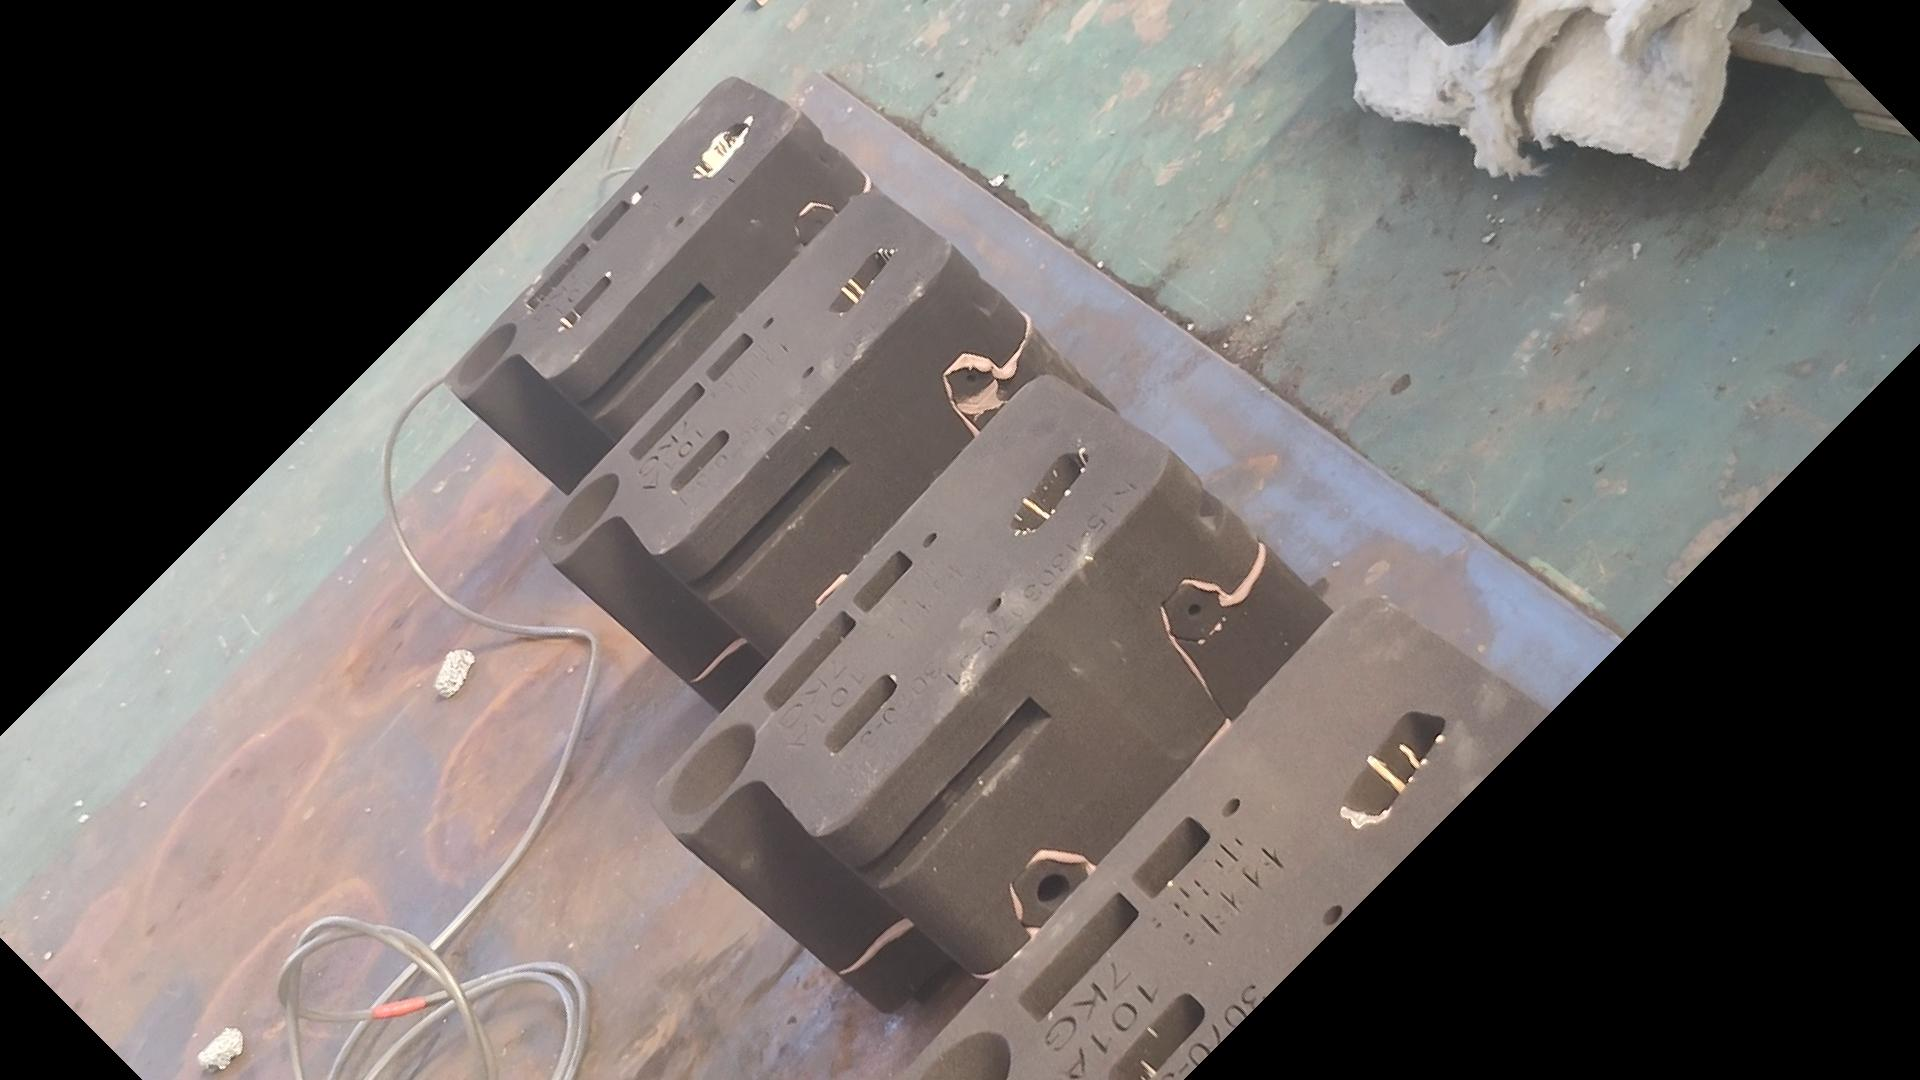pouring hole: (669, 723, 756, 818), (551, 472, 618, 549), (916, 1030, 1011, 1080), (455, 324, 517, 385)
